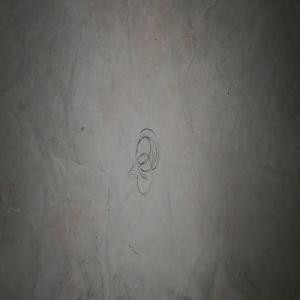Wire: (127, 128, 159, 194)
